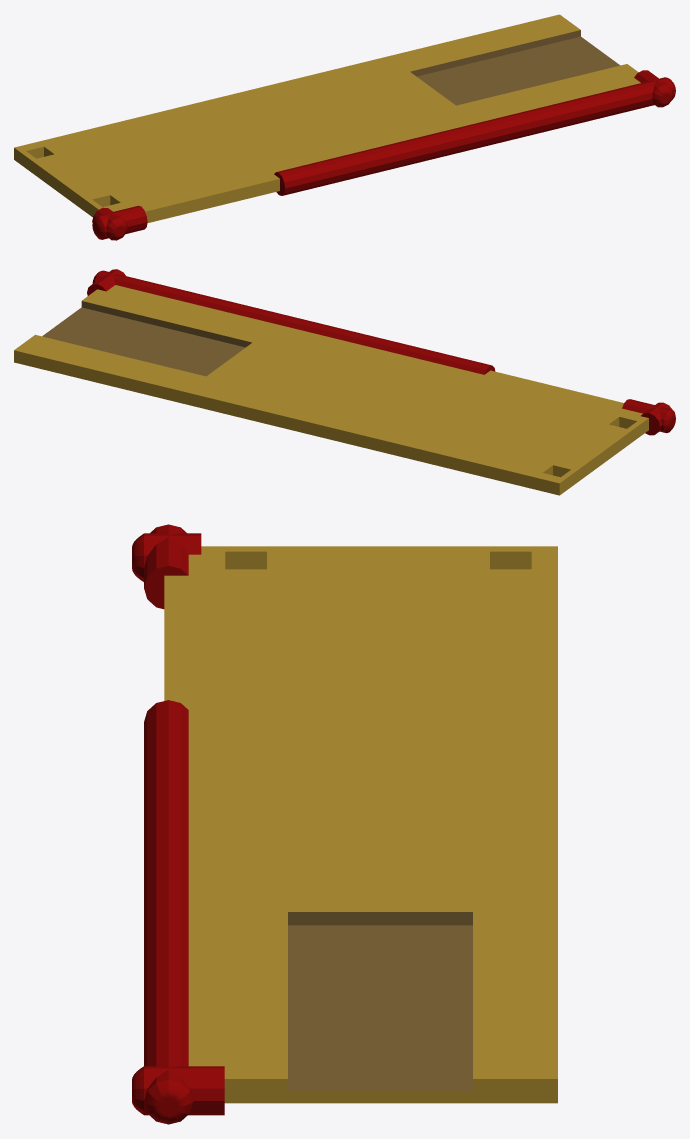
The model's file is side_platform.fbx.
3 renders of one model, top to bottom at view 1: azimuth 30°, elevation 25°; view 2: azimuth 150°, elevation 25°; view 3: azimuth 270°, elevation 25°, orthographic. The views are drawn at different scales.
Visible parts, largest first — view 1: Cube.007, Cylinder.016, Cylinder.015, Cylinder.014, Cylinder.017; view 2: Cube.007, Cylinder.016, Cylinder.015, Cylinder.017, Cylinder.014; view 3: Cube.007, Cylinder.016, Cylinder.014, Cylinder.015, Cylinder.017.
Boxes of the visible parts, <box> form: Cube.007: <box>14,14,640,223</box>; Cylinder.016: <box>274,77,675,195</box>; Cylinder.015: <box>92,205,147,239</box>; Cylinder.014: <box>634,70,673,107</box>; Cylinder.017: <box>92,207,127,240</box>; Cube.007: <box>14,285,648,495</box>; Cylinder.016: <box>92,270,495,374</box>; Cylinder.015: <box>622,399,675,433</box>; Cylinder.017: <box>641,402,671,435</box>; Cylinder.014: <box>87,269,125,295</box>; Cube.007: <box>164,546,557,1103</box>; Cylinder.016: <box>144,700,193,1124</box>; Cylinder.014: <box>132,1066,224,1115</box>; Cylinder.015: <box>144,524,188,609</box>; Cylinder.017: <box>132,533,201,581</box>.
Bounding box in the file's own units: 1813 × 67.58 × 579.
